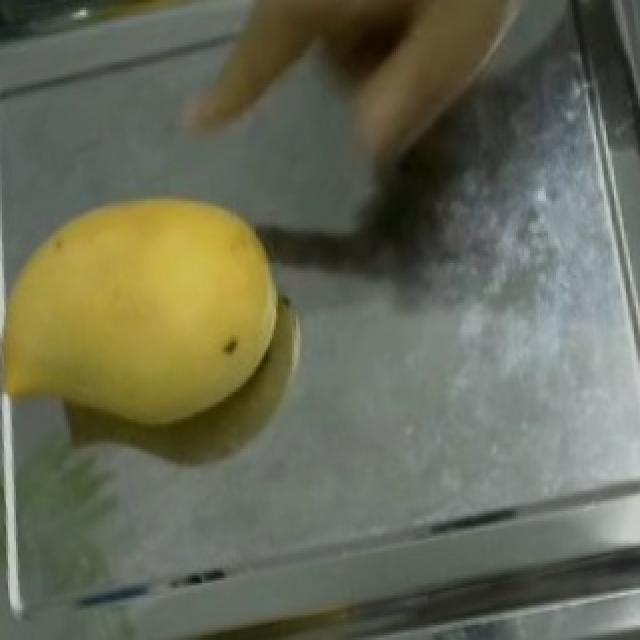fruit: (2, 136, 334, 474)
